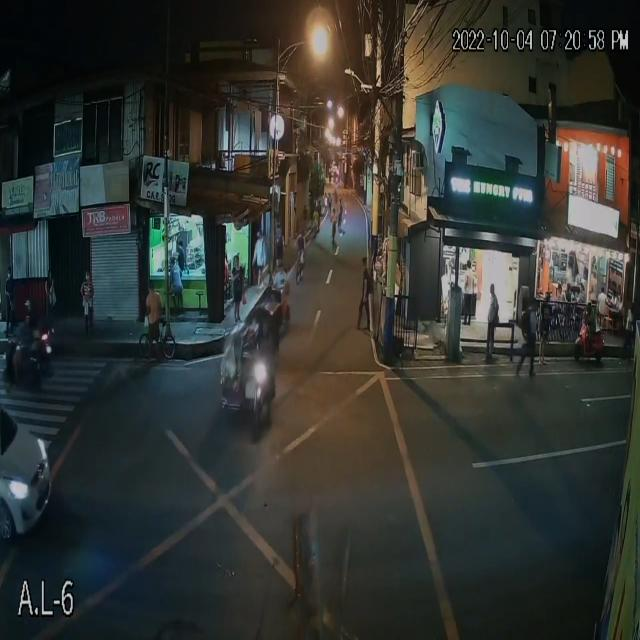Full-Faced: (584, 300, 594, 316)
Invalid: (274, 256, 286, 277)
